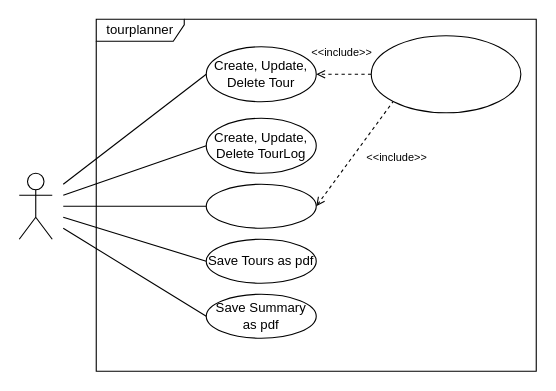
This 556x391 diagram has some shape labels left out. Each missing label, with the box of its shape:
Import, Export Tours: (205, 183, 316, 228)
Rest API - MapQuest Acquire Routeinformation: (370, 35, 521, 113)
User: (18, 172, 52, 239)
